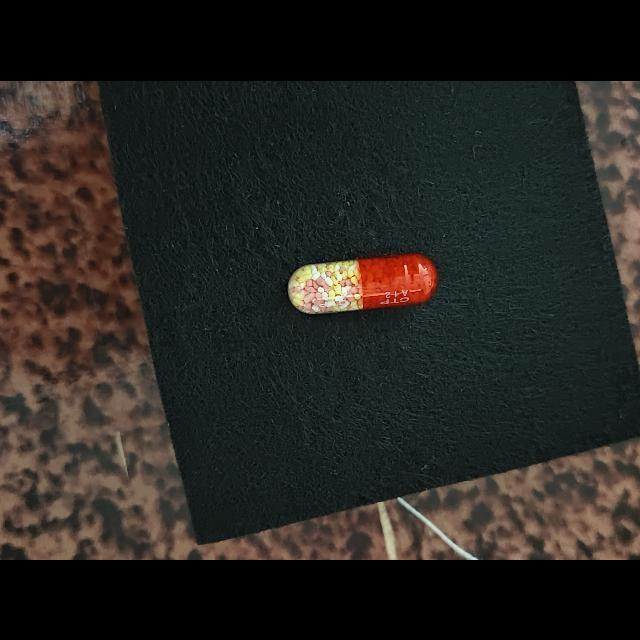Intact Capsule: (288, 253, 438, 314)
